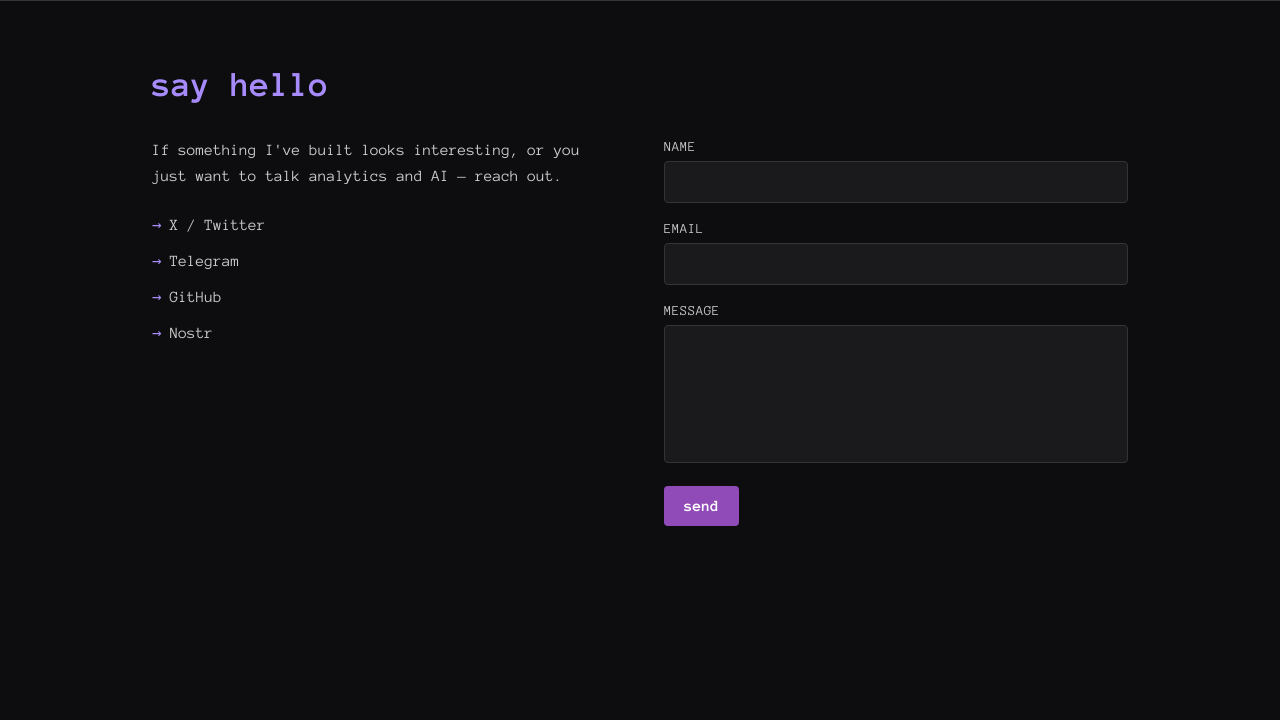
Contact › shows validation error when submitting empty form
What coordinates should you click on to do the following:
click the button "send"
I would click on:
 (701, 506)
Its box is [664,486,739,526].
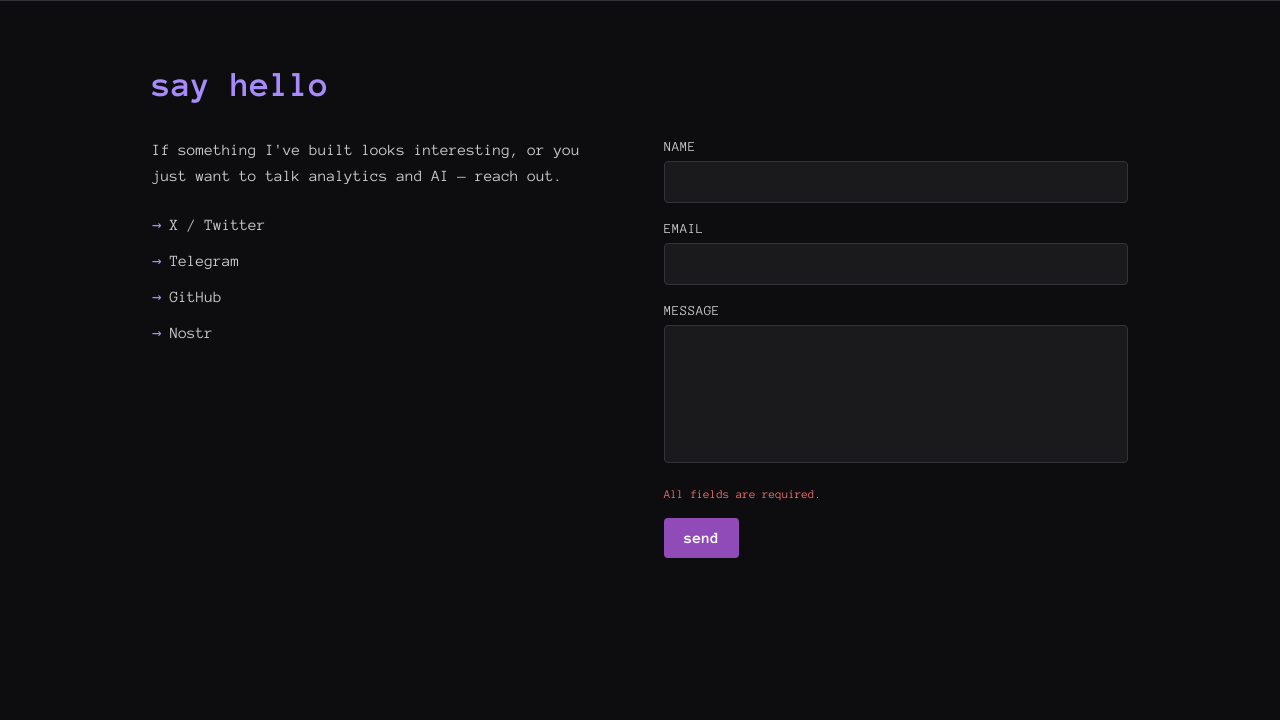
Expected: the text "All fields are required." is shown, [664,488,821,500]
